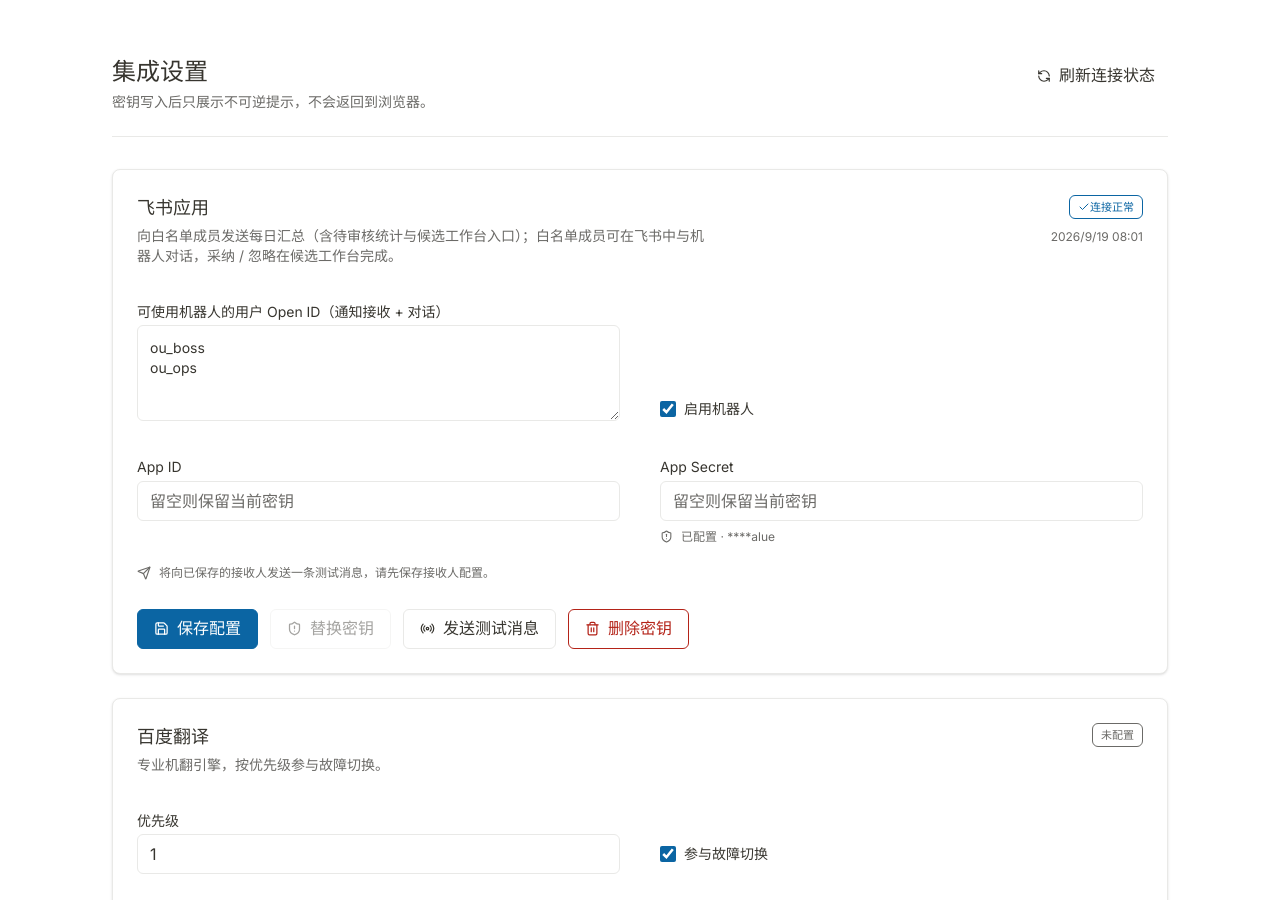
Test: Feishu application integration › requires both credentials for explicit replacement and clears them after saving
The image size is (1280, 900).
Expected: the button with aria-label "替换飞书应用密钥" is disabled, 270,609 -> 391,649
Type "cli_new" into the password field labelled "App ID" at [378, 501], box 137,481 -> 620,521
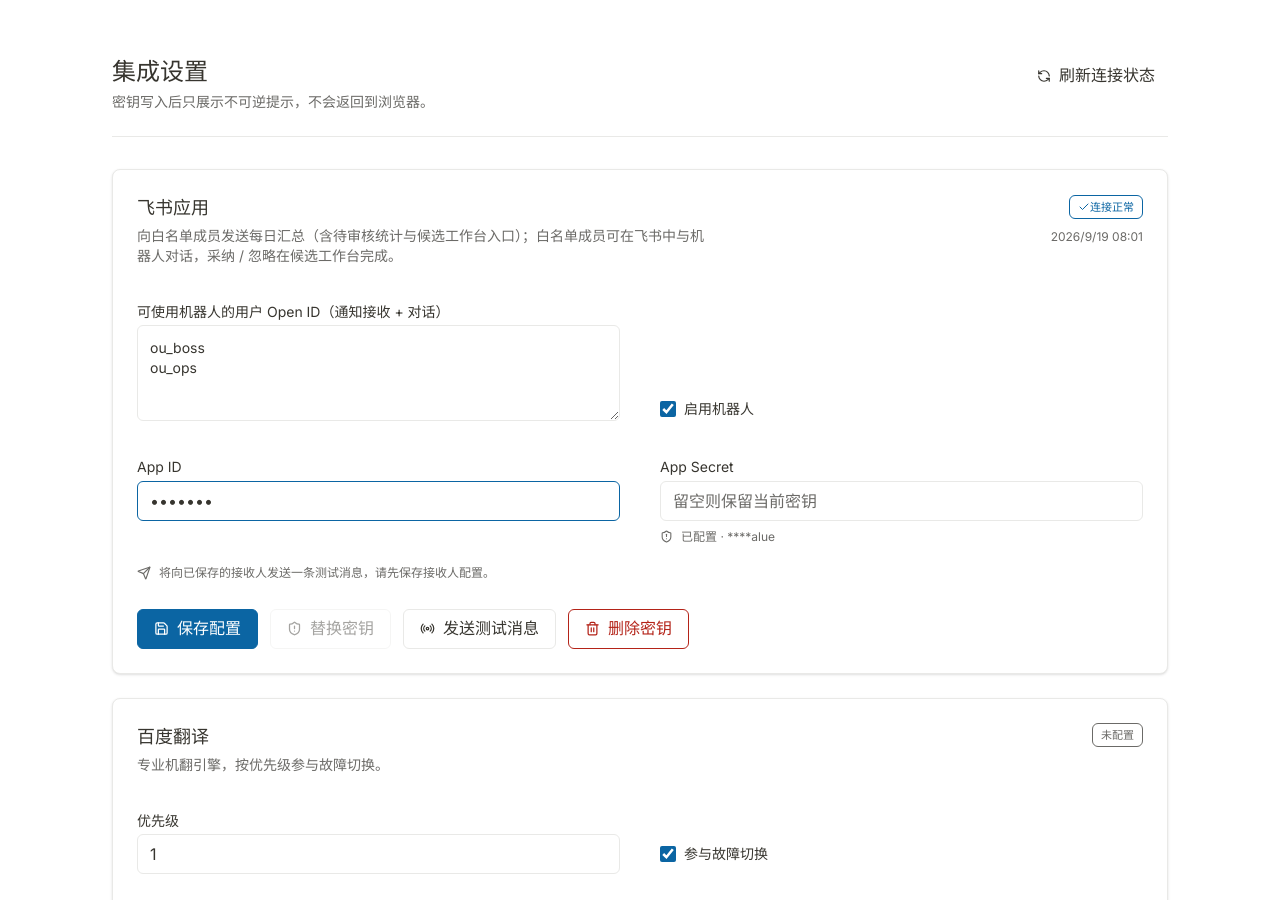
Expected: the button with aria-label "替换飞书应用密钥" is disabled, 270,609 -> 391,649
Type "new-secret" into the password field labelled "App Secret" at [902, 501], box 660,481 -> 1143,521
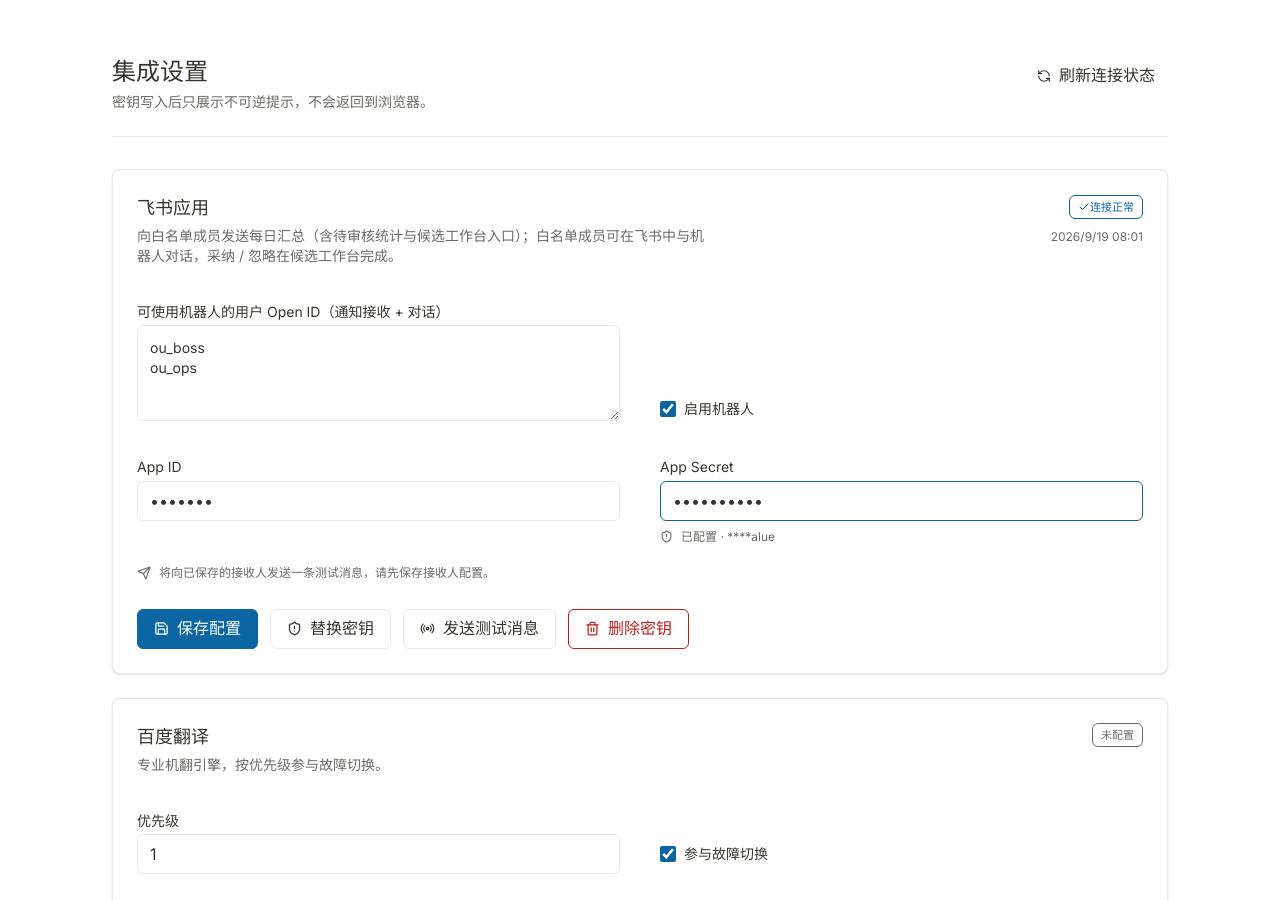
Click the button with aria-label "替换飞书应用密钥" at [330, 629], box 270,609 -> 391,649
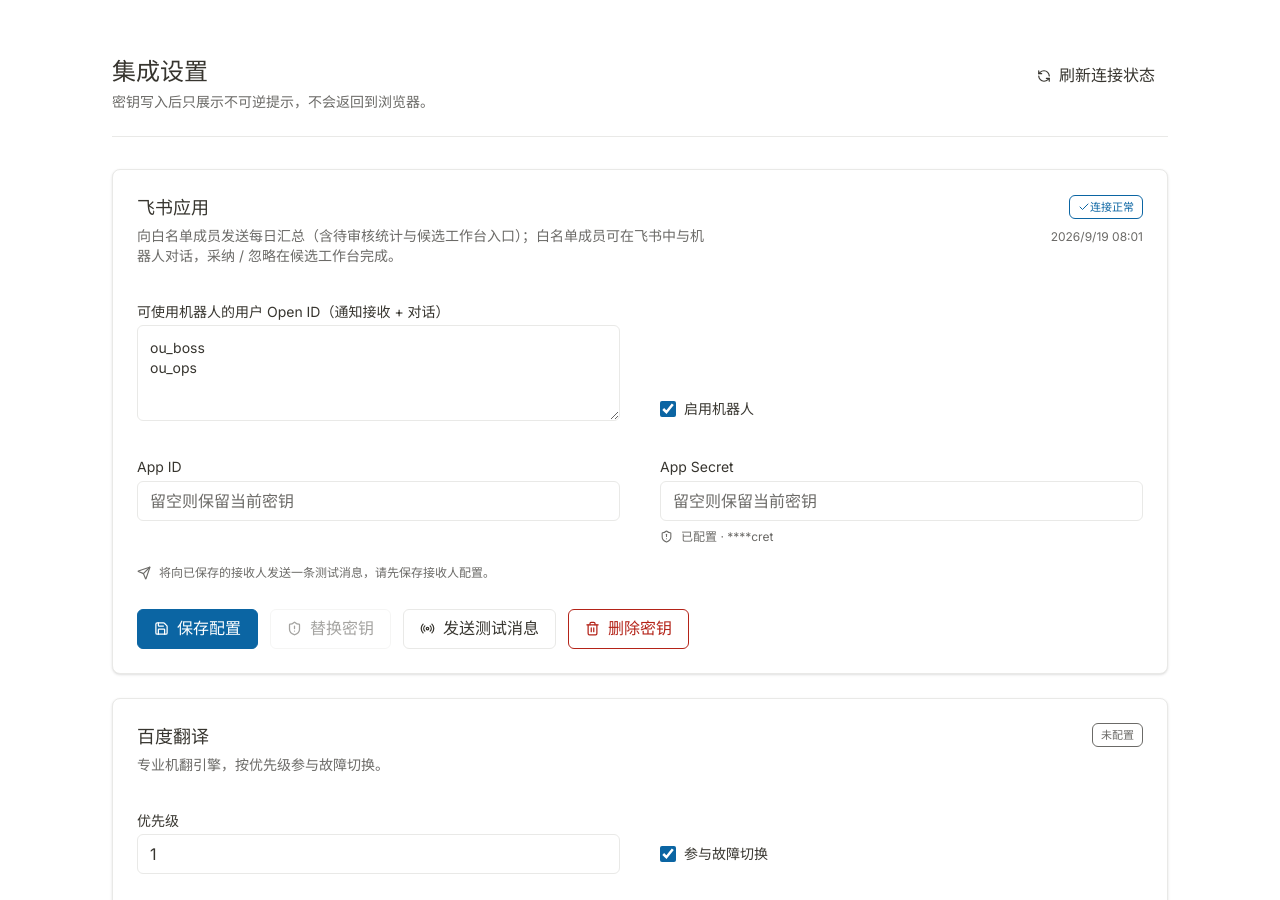
Expected: the password field labelled "App Secret" is empty, 660,481 -> 1143,521
Expected: the password field labelled "App ID" is empty, 137,481 -> 620,521
Expected: the text "已配置 · ****cret" is shown, 660,529 -> 773,544
